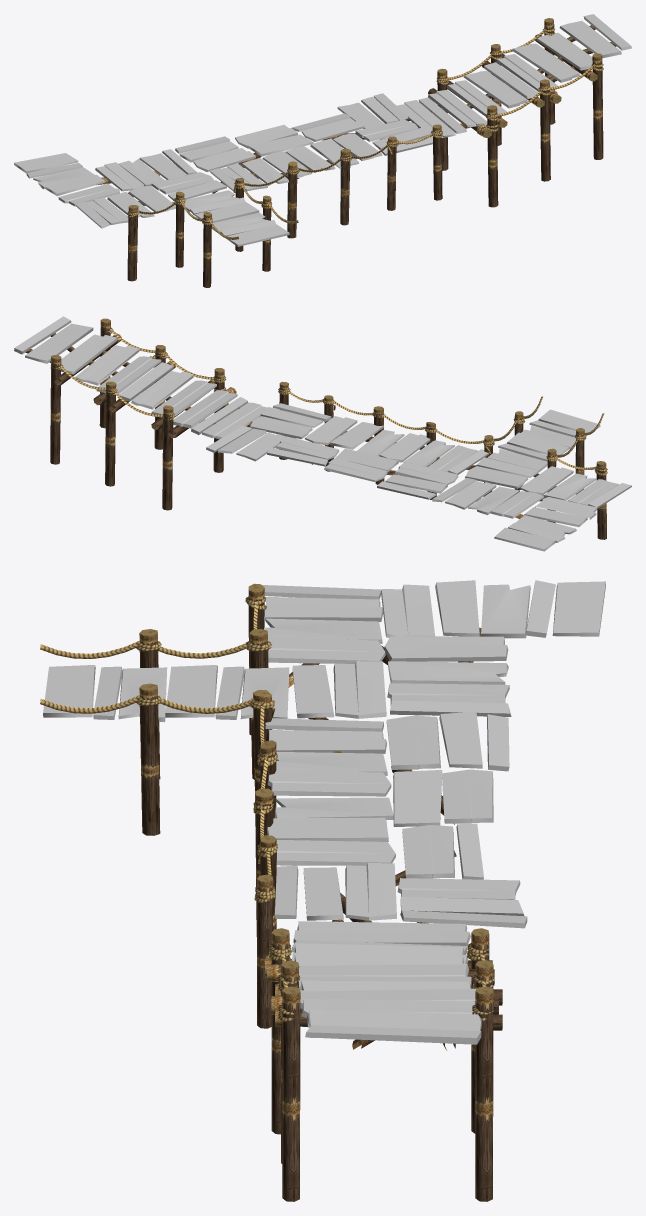
File: SM_Town004_Woodroad.FBX
3 views of the same model, one above another, from view 1: azimuth 30°, elevation 25°; view 2: azimuth 150°, elevation 25°; view 3: azimuth 270°, elevation 25° (orthographic). The views are drawn at different scales.
Parts seen in each view (by area): view 1: SM_Town004_Woodroad; view 2: SM_Town004_Woodroad; view 3: SM_Town004_Woodroad.
Boxes of the visible parts, x1,y1,x2,y2 form: SM_Town004_Woodroad: (14, 14, 631, 287); SM_Town004_Woodroad: (14, 316, 631, 551); SM_Town004_Woodroad: (40, 580, 605, 1201).
Size of the model in its own units: 4969 by 2214 by 1055.
